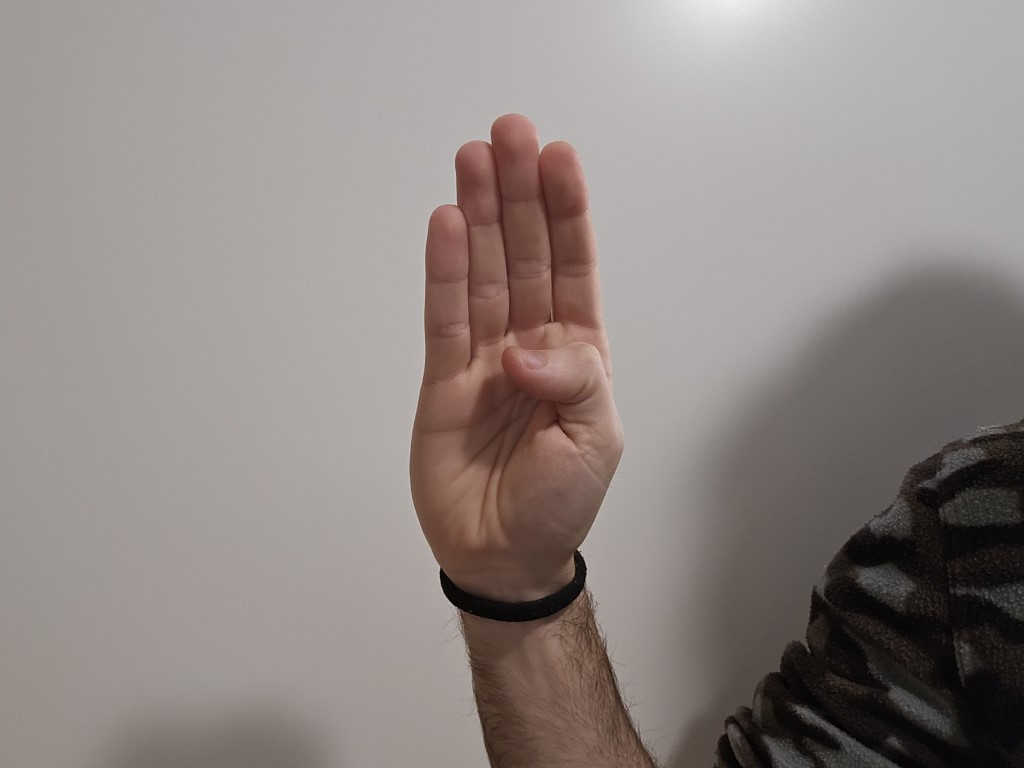b: (377, 110, 649, 584)
